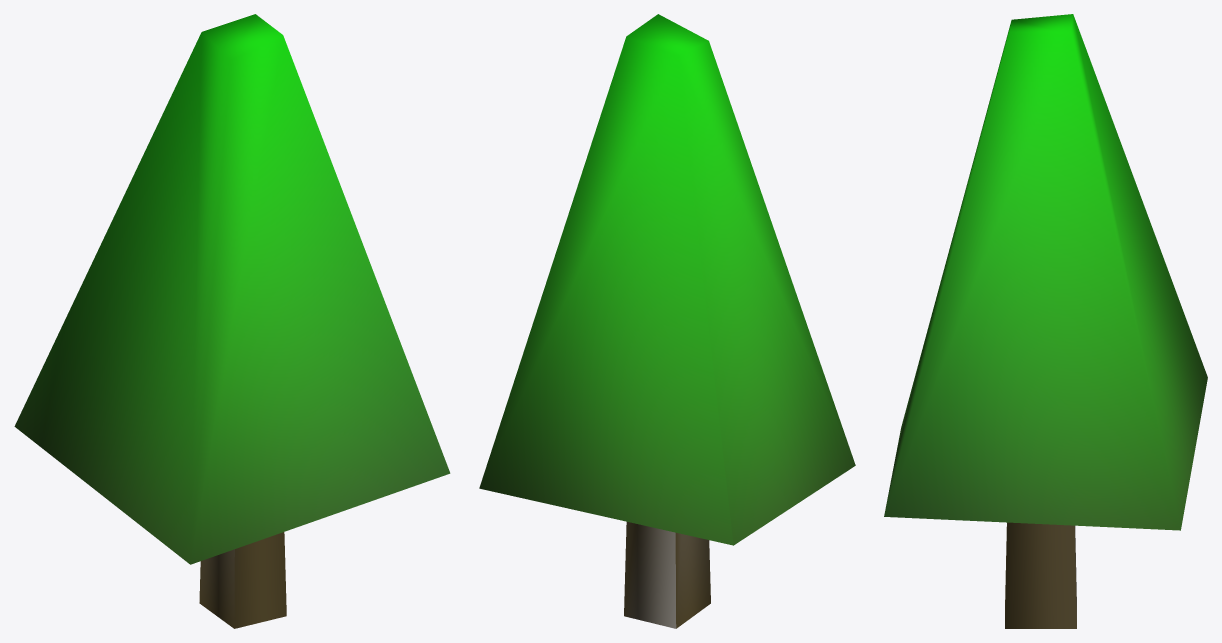
Rendered from tree-sapin-lod2.glb.
The picture shows the model from 3 angles, left to right: view 1: azimuth 30°, elevation 25°; view 2: azimuth 150°, elevation 25°; view 3: azimuth 270°, elevation 25°; orthographic projection. The views are drawn at different scales.
Parts seen in each view (by area): view 1: Cube.002; view 2: Cube.002; view 3: Cube.002.
Part boxes in pixels (x1=…): Cube.002: x1=14, y1=14, x2=450, y2=628; Cube.002: x1=479, y1=14, x2=855, y2=628; Cube.002: x1=884, y1=14, x2=1207, y2=628.
Size of the model in its own units: 6.9 by 13.74 by 6.77.
